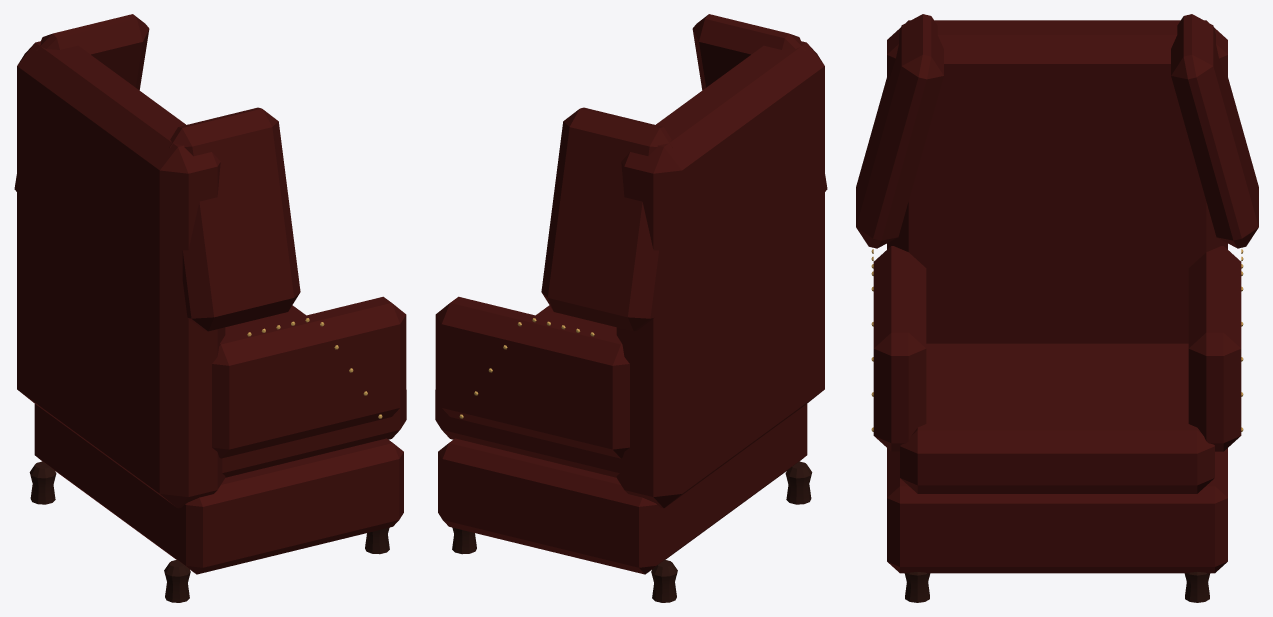
Rendered from e18_wingchair.glb.
3 views of the same model, side by side, from view 1: azimuth 30°, elevation 25°; view 2: azimuth 150°, elevation 25°; view 3: azimuth 270°, elevation 25° (orthographic). The views are drawn at different scales.
Visible parts, largest first — view 1: teil0, teil2; view 2: teil0, teil2; view 3: teil0, teil2.
Boxes of the visible parts, <box> form: teil0: <box>14,14,406,574</box>; teil2: <box>29,461,389,602</box>; teil0: <box>435,14,827,574</box>; teil2: <box>452,461,812,602</box>; teil0: <box>856,14,1258,573</box>; teil2: <box>904,572,1210,602</box>.
Size of the model in its own units: 0.69 by 1.22 by 0.9208.
